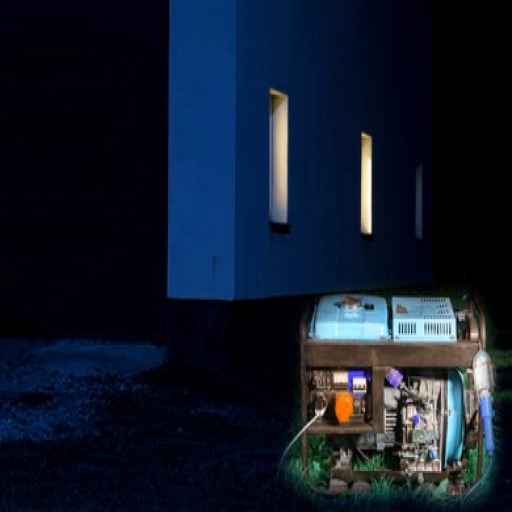portable_generator: (300, 290, 489, 497)
